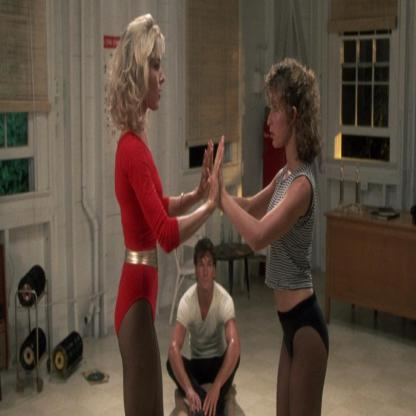face: (143, 42, 166, 112), (268, 88, 292, 148), (198, 250, 214, 292)
